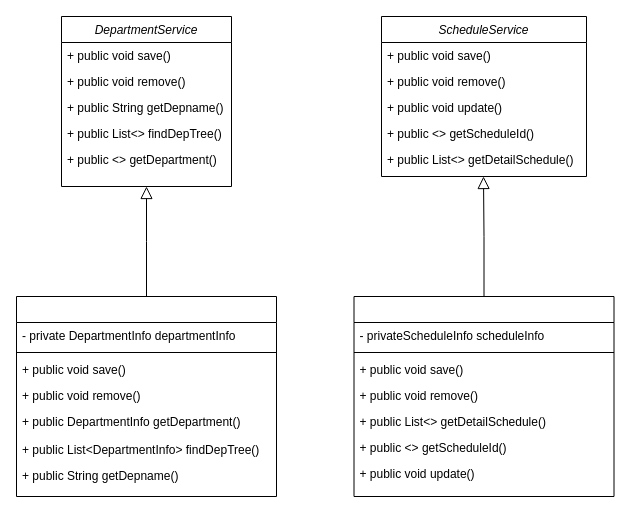
Image size: 630x513. Some labels were removed from this diagram. The box of each missing label's shape, as (x1, y1, x2, y2) in pixels:
DepartmentServiceImpl: (16, 296, 276, 496)
ScheduleServiceImpl: (353, 296, 614, 496)
